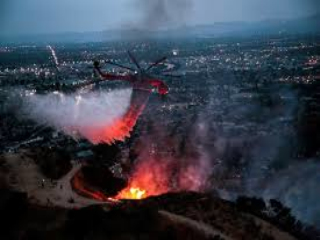fire: (117, 179, 156, 204)
smoke: (158, 121, 239, 191)
